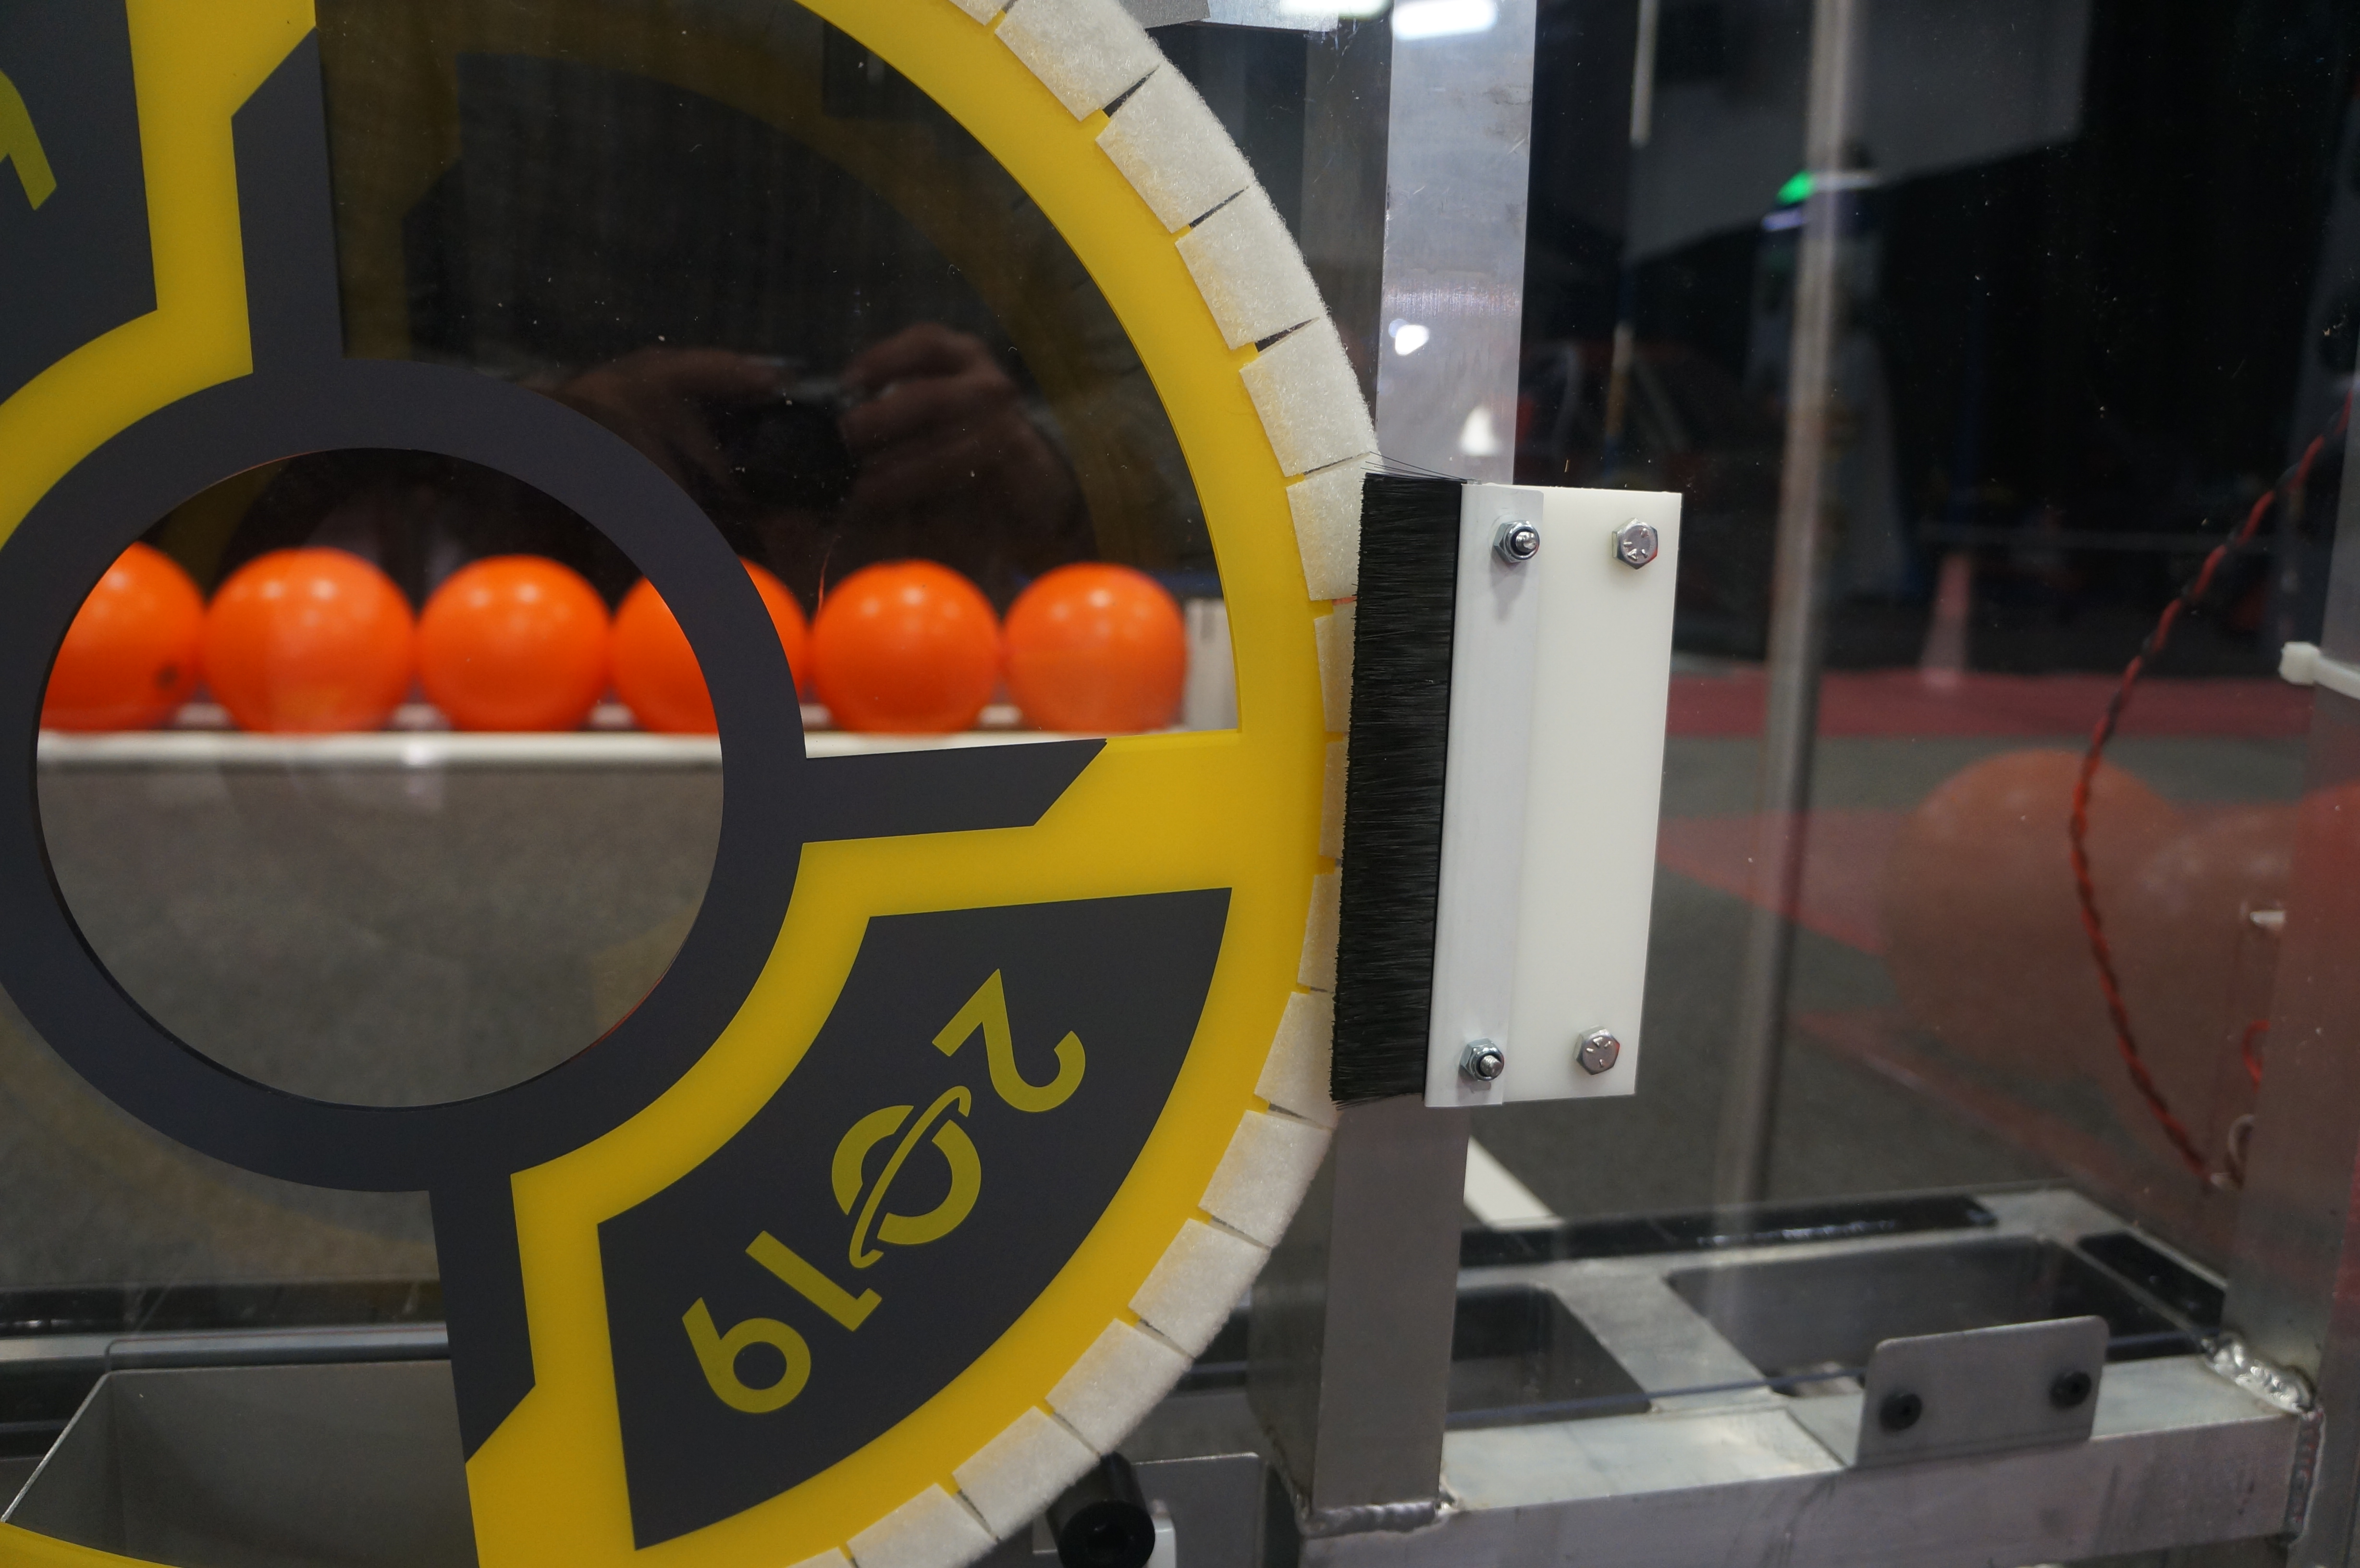Ball: (201, 542, 420, 751), (609, 551, 810, 742), (815, 546, 1001, 744), (416, 549, 609, 737), (1004, 558, 1188, 737), (30, 535, 196, 731)
Hatch: (0, 0, 1428, 1566)
